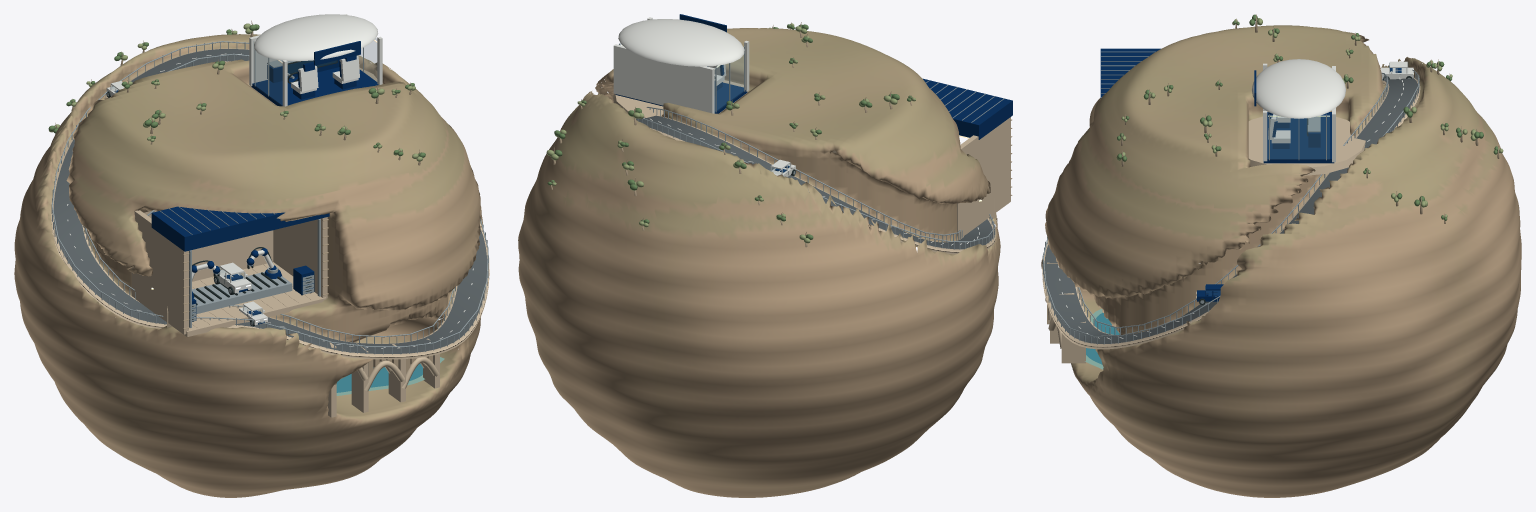
File: hyundai-refined-v1-low.glb
3 views of the same model, side by side, from view 1: azimuth 30°, elevation 25°; view 2: azimuth 150°, elevation 25°; view 3: azimuth 270°, elevation 25° (orthographic).
Visible parts, largest first — view 1: motor_layered_terrain, motor_cut_stone, motor_asphalt, motor_navy_002C5F, motor_white_enamel, motor_brushed_steel, motor_glass, motor_warm_limestone, motor_coastal_leaf, motor_coastal_leaf_light, motor_rubber, motor_bay_water; view 2: motor_layered_terrain, motor_white_enamel, motor_cut_stone, motor_navy_002C5F, motor_asphalt, motor_brushed_steel, motor_coastal_leaf, motor_glass, motor_coastal_leaf_light; view 3: motor_layered_terrain, motor_asphalt, motor_white_enamel, motor_cut_stone, motor_navy_002C5F, motor_brushed_steel, motor_glass, motor_coastal_leaf, motor_coastal_leaf_light, motor_warm_limestone.
Boxes of the visible parts, x1,y1,x2,y2 form: motor_layered_terrain: [14, 34, 482, 497]; motor_cut_stone: [51, 48, 489, 417]; motor_asphalt: [53, 49, 487, 353]; motor_navy_002C5F: [151, 41, 378, 320]; motor_white_enamel: [67, 14, 473, 348]; motor_brushed_steel: [51, 41, 488, 354]; motor_glass: [220, 38, 376, 281]; motor_warm_limestone: [55, 20, 432, 376]; motor_coastal_leaf: [48, 24, 425, 157]; motor_coastal_leaf_light: [49, 23, 422, 161]; motor_rubber: [192, 60, 337, 321]; motor_bay_water: [336, 363, 422, 392]; motor_layered_terrain: [518, 28, 1000, 497]; motor_white_enamel: [613, 17, 979, 245]; motor_cut_stone: [613, 80, 1010, 254]; motor_navy_002C5F: [615, 14, 1012, 139]; motor_asphalt: [636, 115, 993, 249]; motor_brushed_steel: [619, 43, 1004, 249]; motor_coastal_leaf: [547, 24, 912, 239]; motor_glass: [618, 43, 743, 111]; motor_coastal_leaf_light: [546, 23, 915, 243]; motor_layered_terrain: [1041, 25, 1521, 497]; motor_asphalt: [1044, 78, 1417, 343]; motor_white_enamel: [1058, 59, 1403, 339]; motor_cut_stone: [1042, 78, 1420, 363]; motor_navy_002C5F: [1100, 48, 1334, 163]; motor_brushed_steel: [1042, 51, 1419, 344]; motor_glass: [1268, 115, 1329, 159]; motor_coastal_leaf: [1117, 14, 1497, 220]; motor_coastal_leaf_light: [1116, 18, 1503, 219]; motor_warm_limestone: [1121, 14, 1499, 223].
Size of the model in its own units: 18.76 by 18.55 by 18.69.
